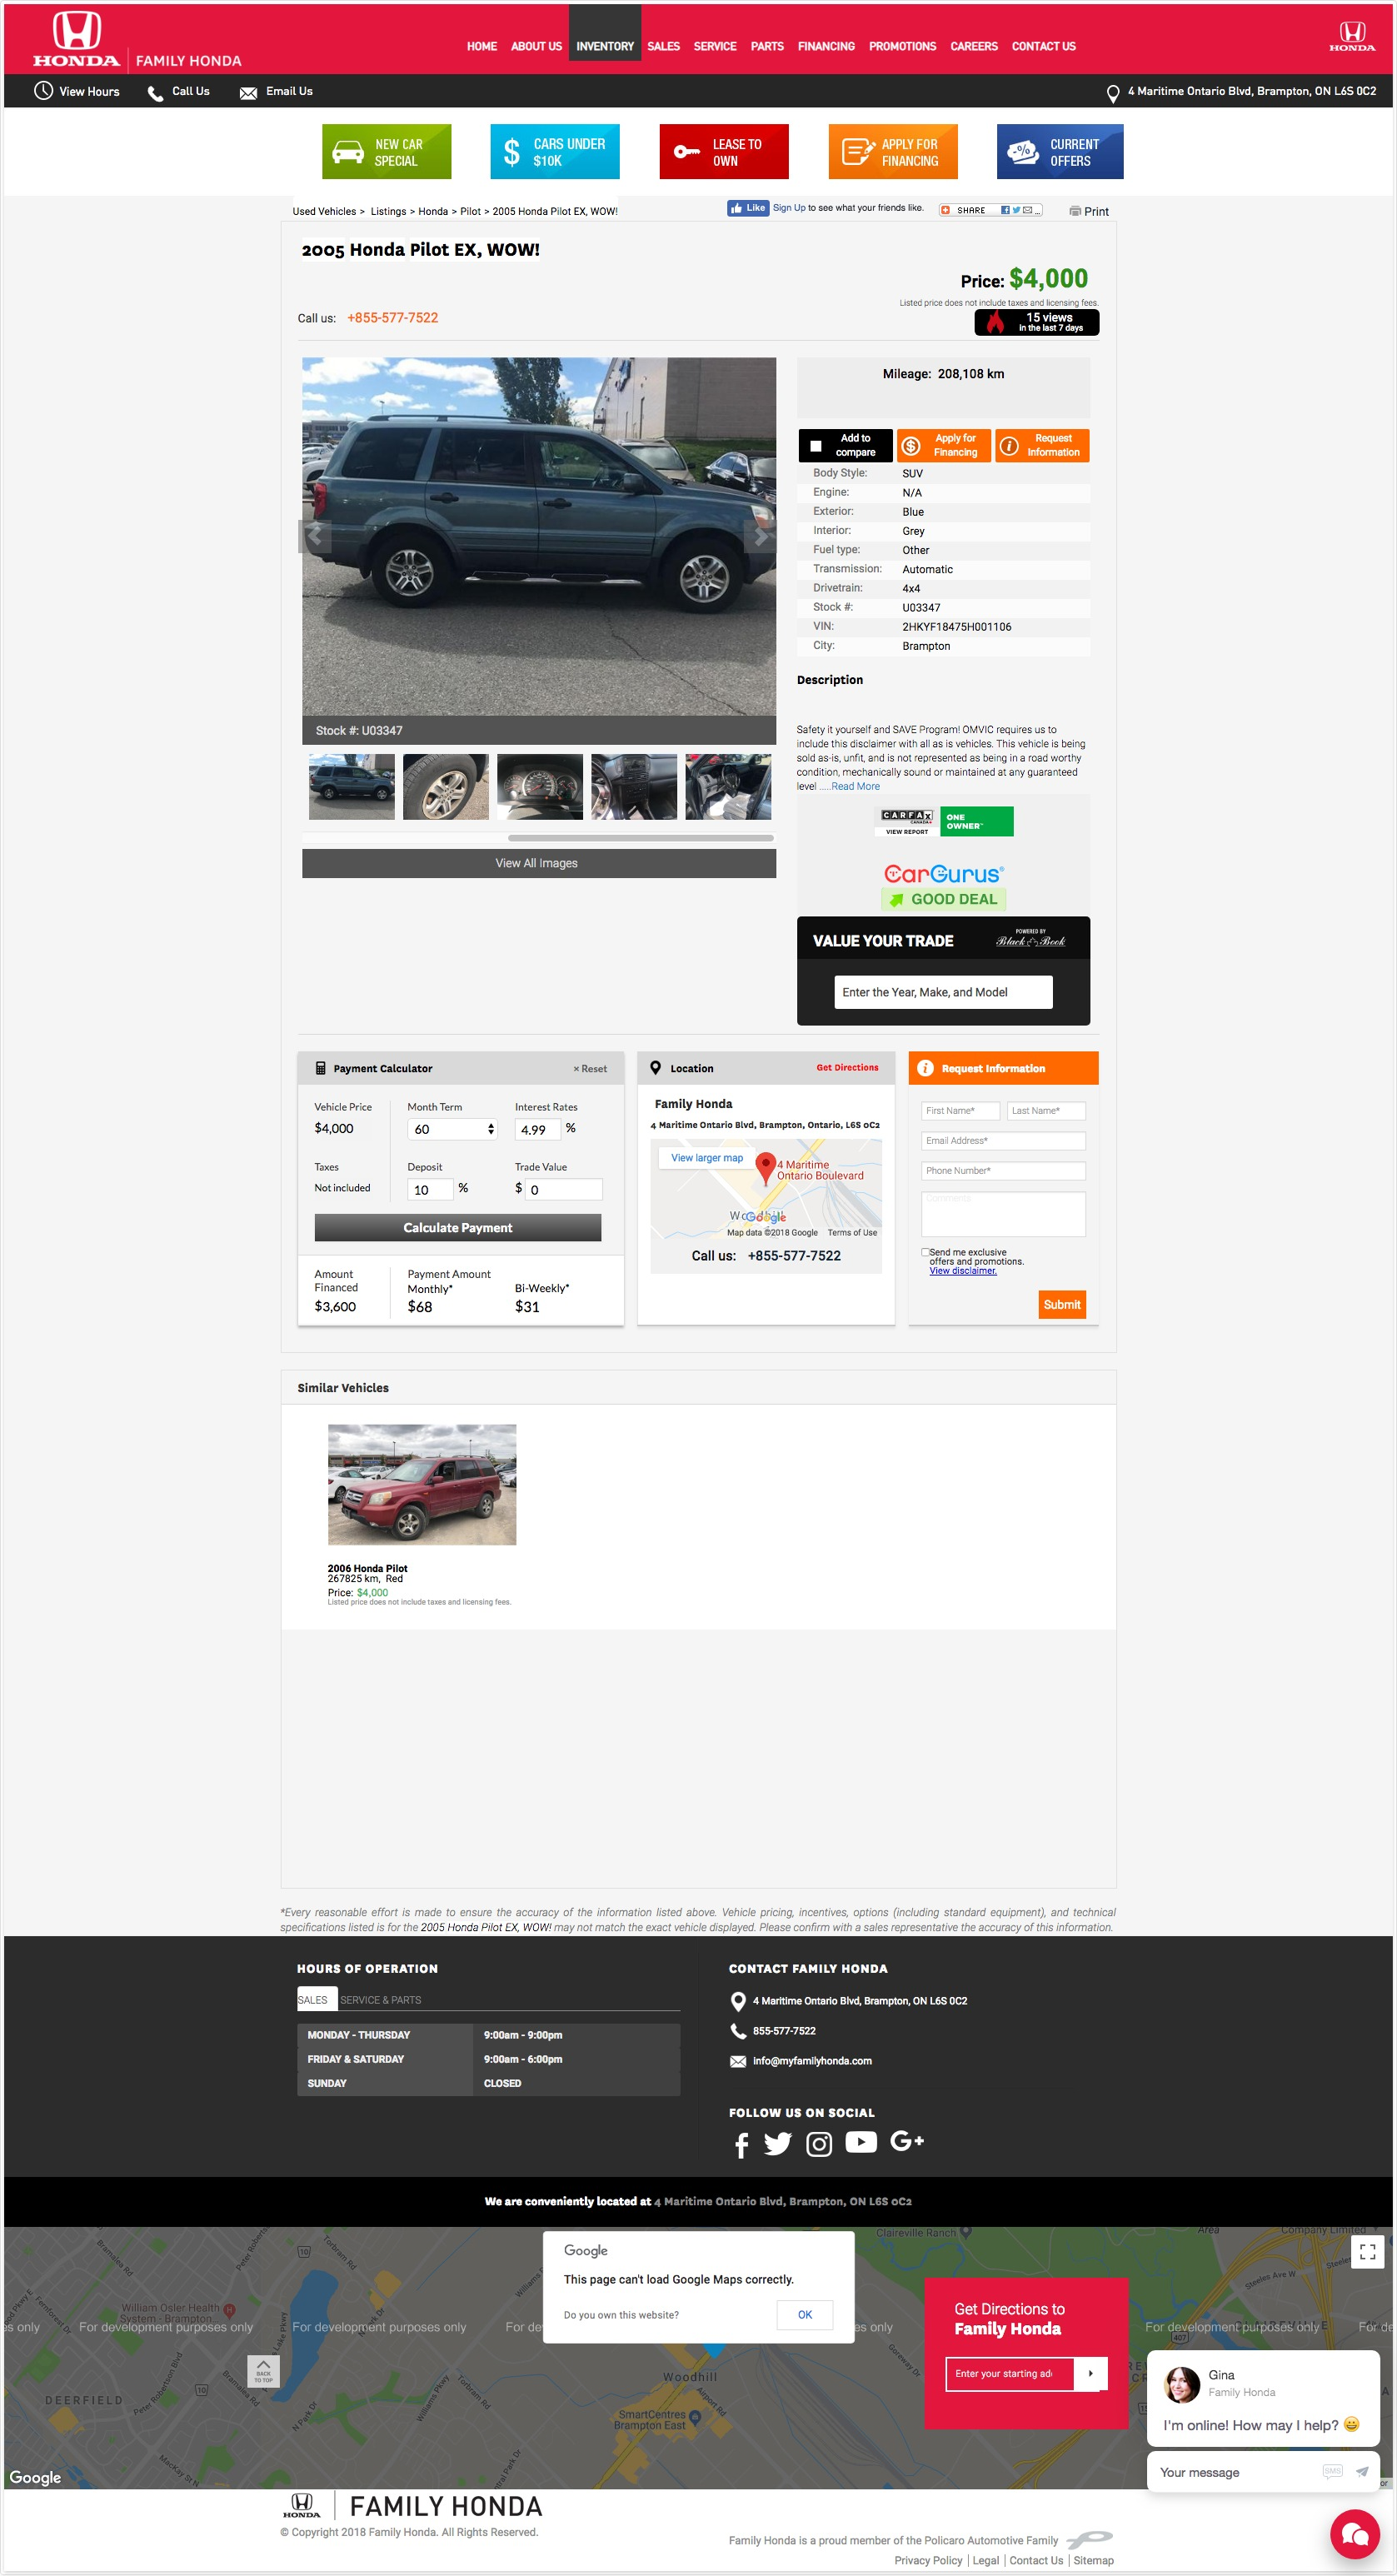car: (743, 519, 779, 555)
